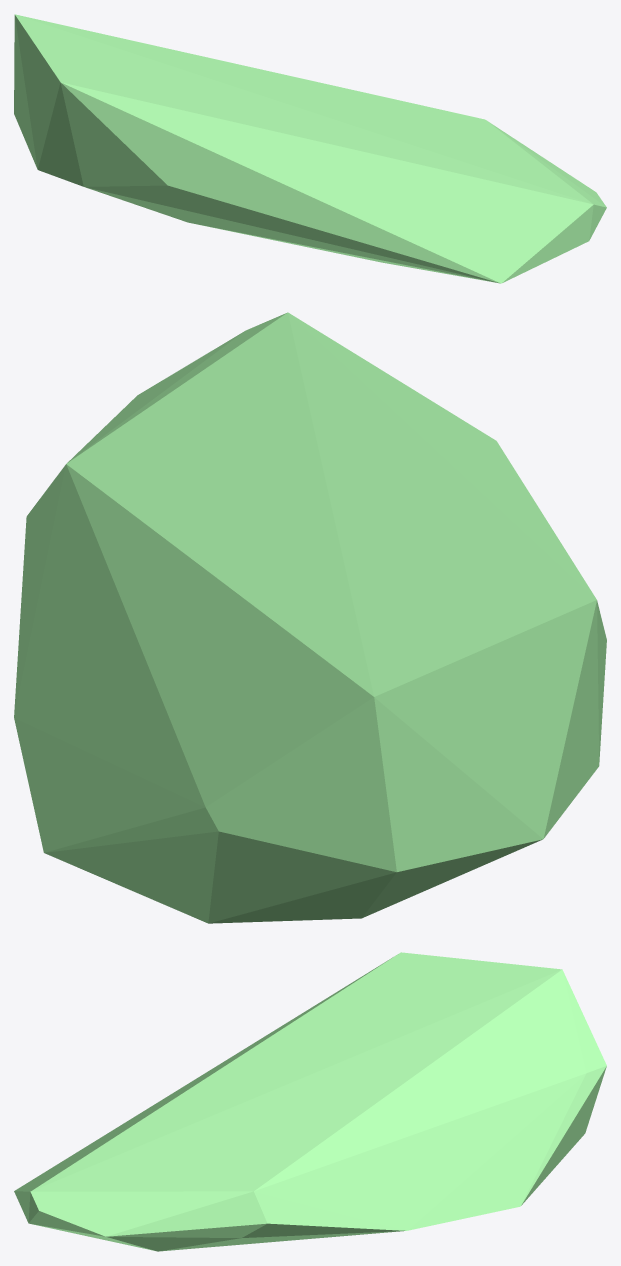
Rendered from linkhou_LR4_R560_link2_respondable_coll_12.dae.
3 renders of one model, top to bottom at view 1: azimuth 30°, elevation 25°; view 2: azimuth 150°, elevation 25°; view 3: azimuth 270°, elevation 25°, orthographic. The views are drawn at different scales.
Parts seen in each view (by area): view 1: Node_00000209DB3AA2F0; view 2: Node_00000209DB3AA2F0; view 3: Node_00000209DB3AA2F0.
Part boxes in pixels (x1=…): Node_00000209DB3AA2F0: x1=14, y1=14, x2=606, y2=283; Node_00000209DB3AA2F0: x1=14, y1=312, x2=606, y2=923; Node_00000209DB3AA2F0: x1=14, y1=952, x2=606, y2=1251.
Size of the model in its own units: 0.1538 by 0.0568 by 0.2044.
